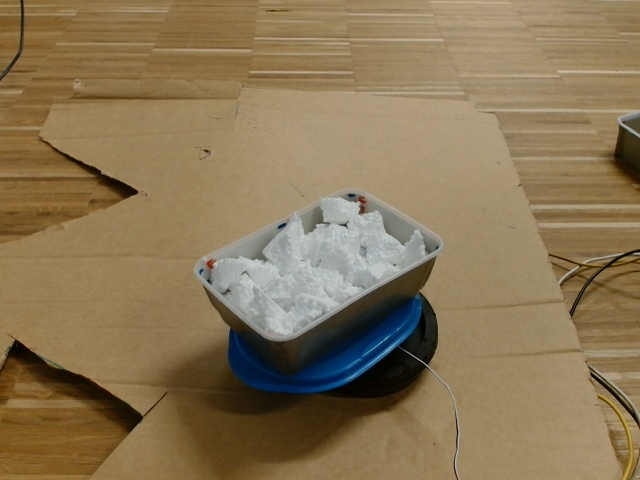Small_threequarter: (198, 190, 441, 342)
